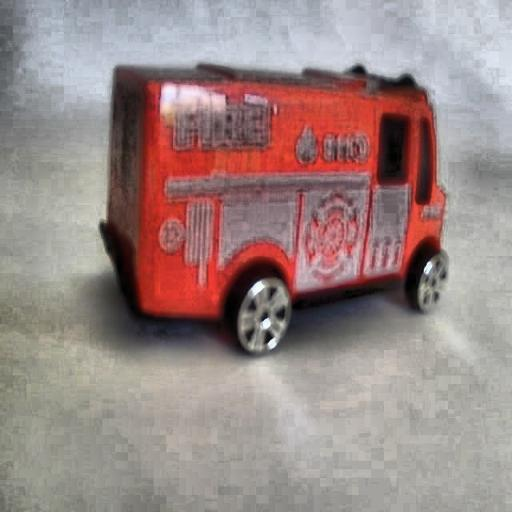fire_truck: (100, 62, 450, 355)
